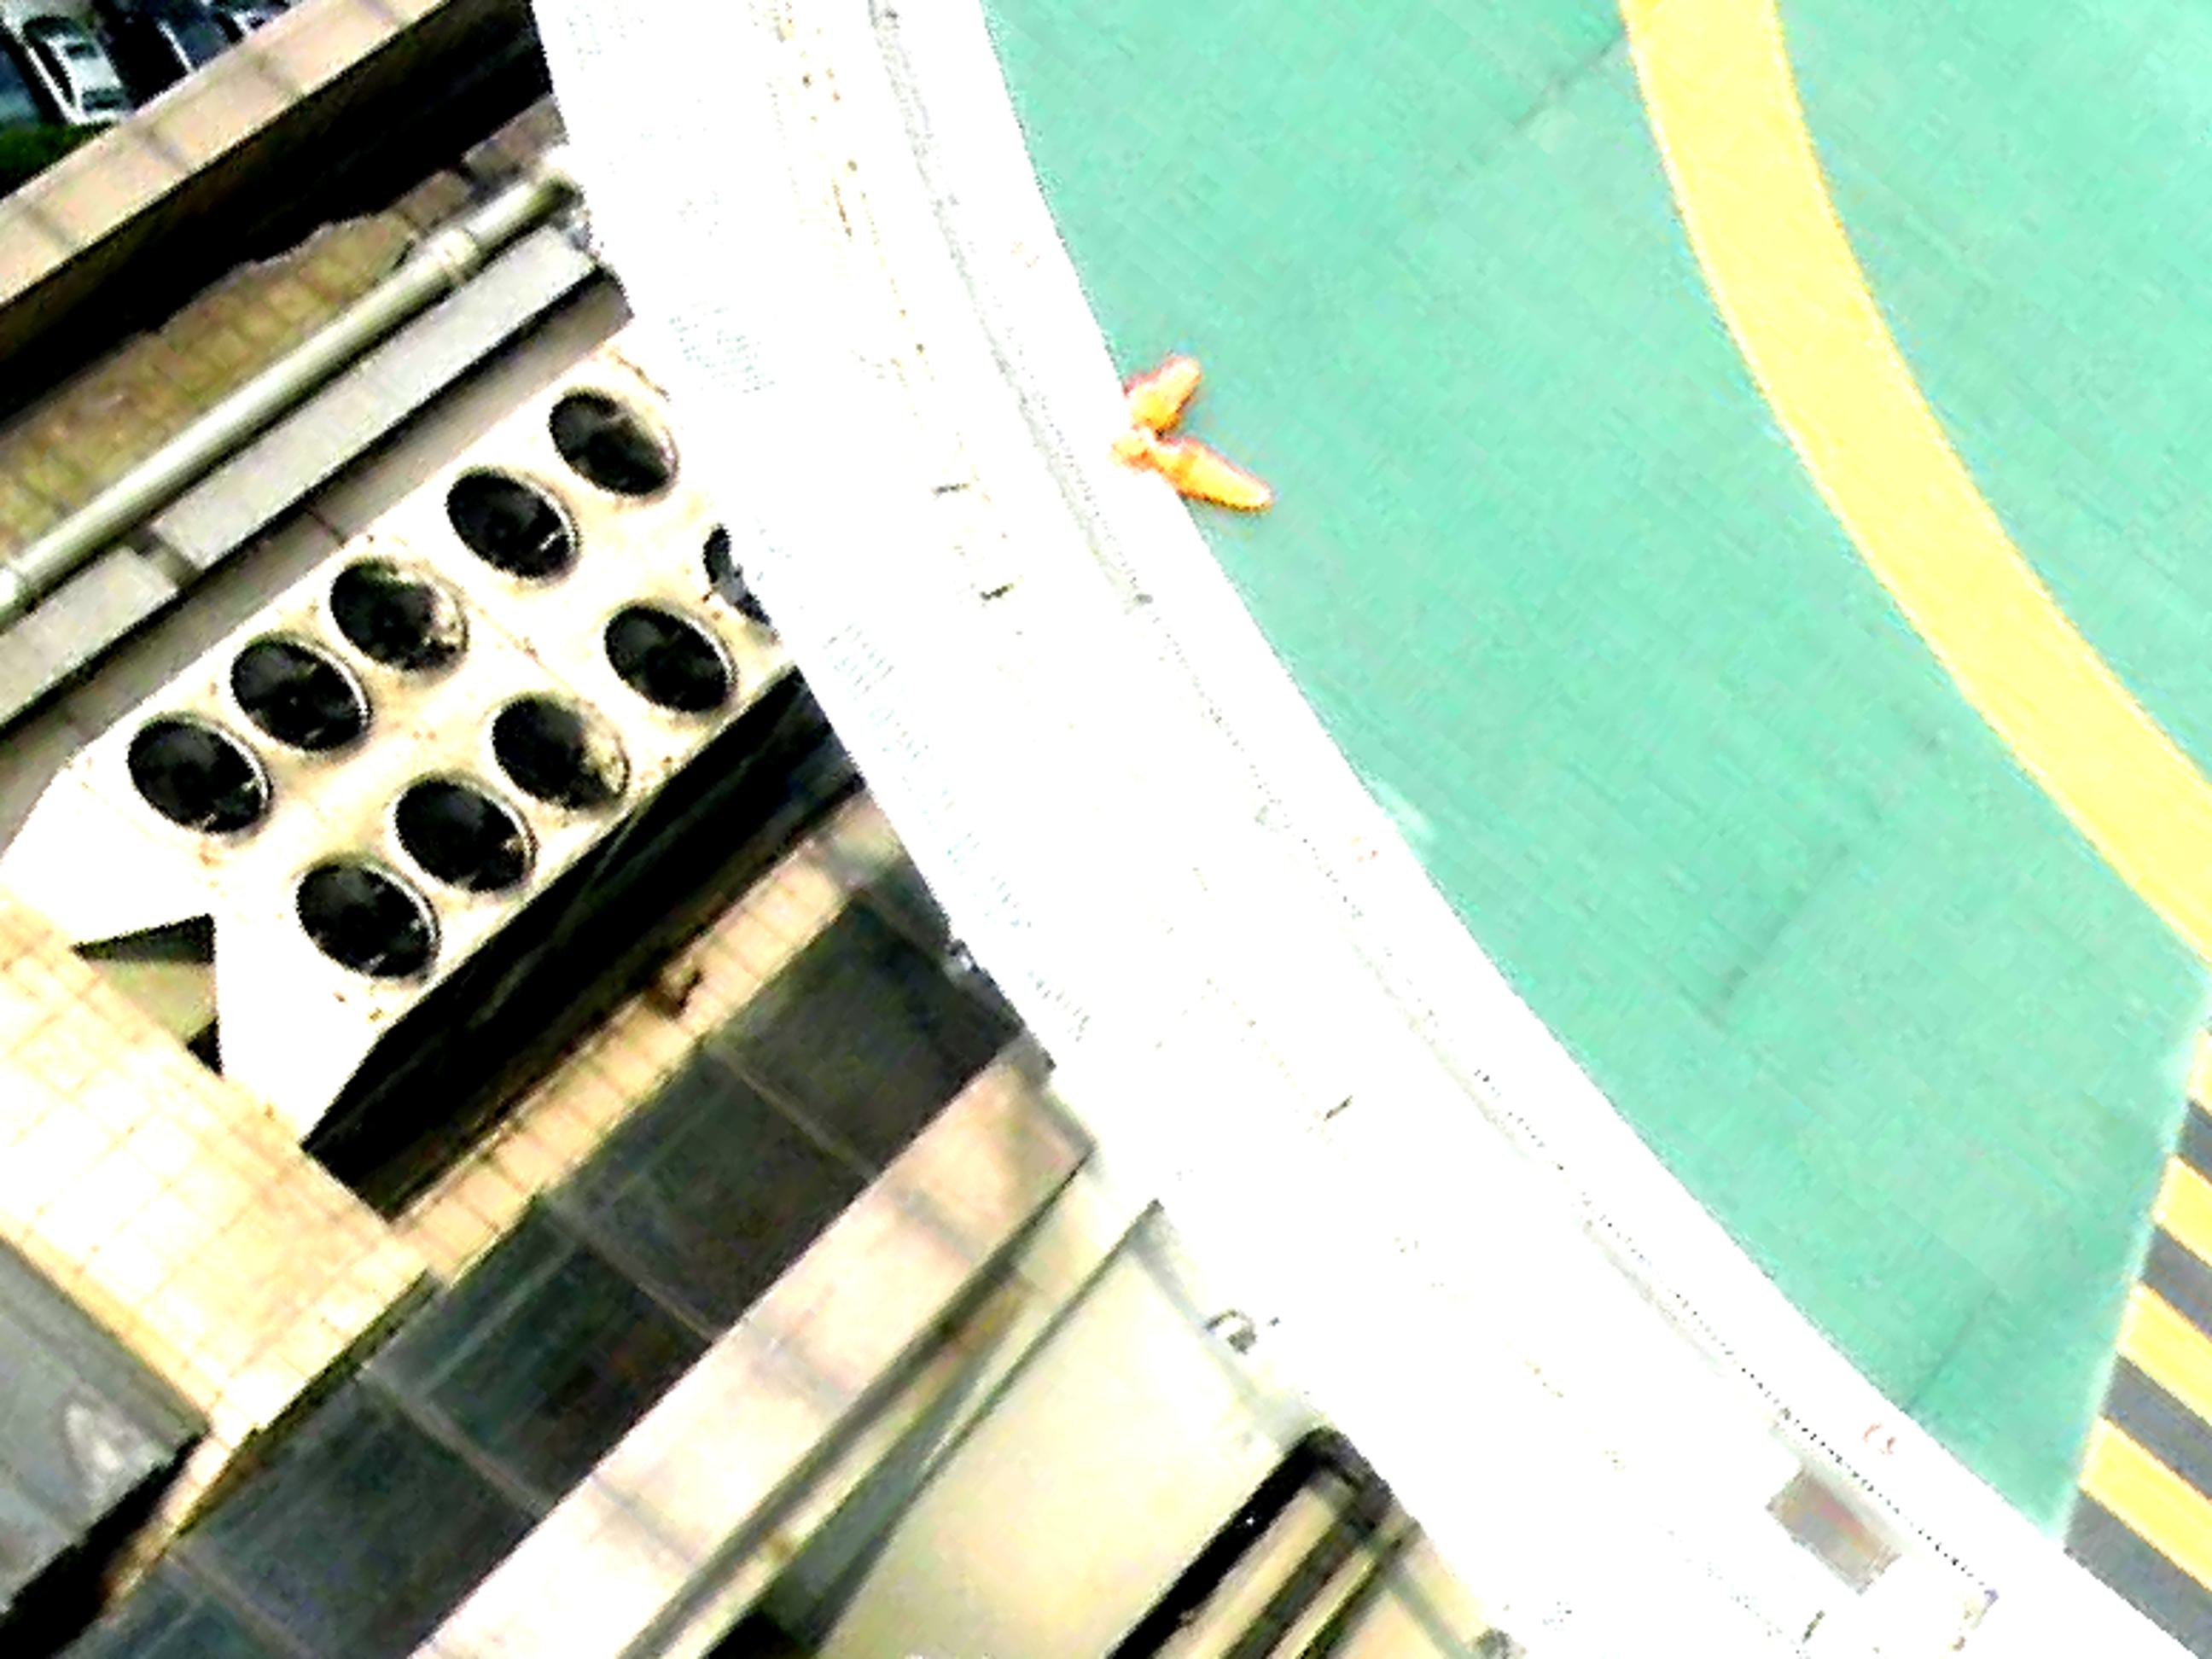Apron: (1561, 5, 2212, 1014)
